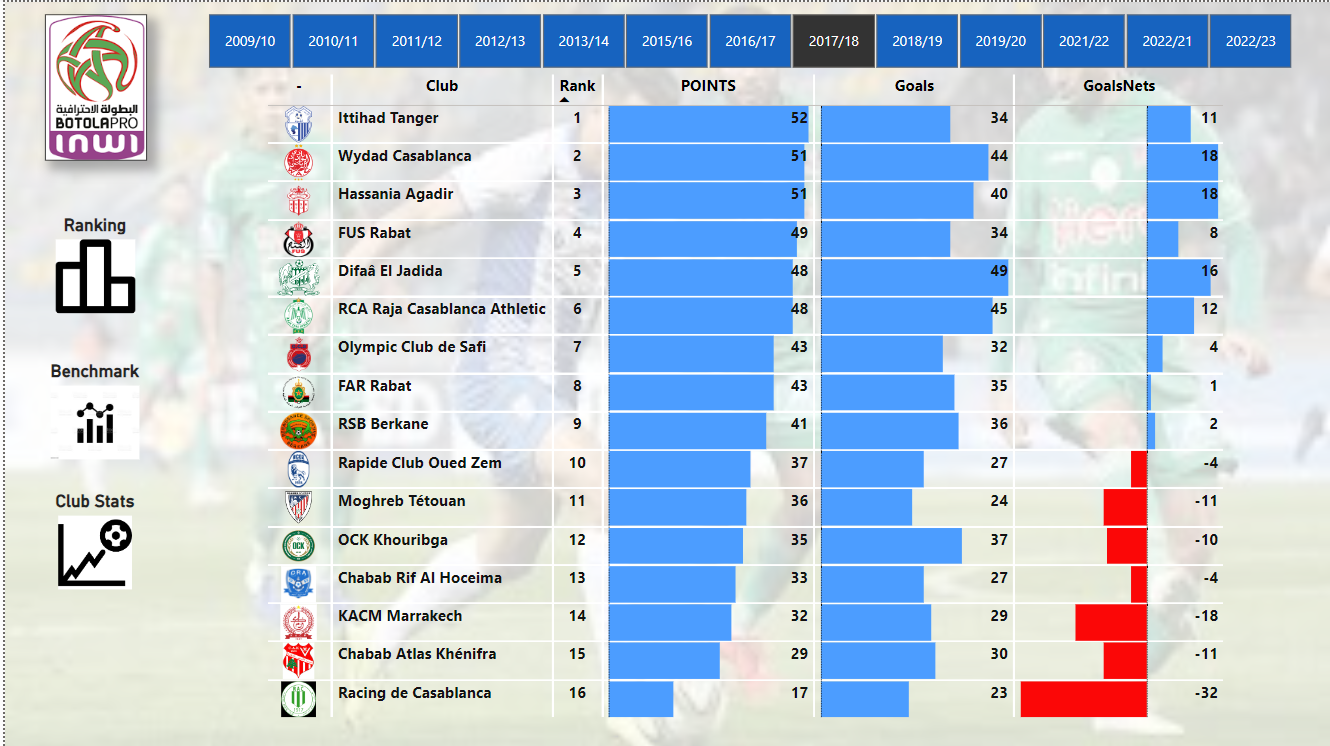

What the dashboard file says about the page in this screenshot:
{"tool":"powerbi","page":{"name":"RANKING","canvas":[1280,720],"ordinal":0},"visuals":[{"type":"image","box":[38,12,98,141],"z":0},{"type":"tableEx","fields":{"Values":["Sheet1 (2).logos","Sheet1 (2).Club","Sum(Sheet1 (2).Rank)","Liste des mesures.POINTS","Liste des mesures.Goals","Liste des mesures.GoalsNetsTotal"]},"box":[247.2,65.1,934.7,654.9],"z":1000},{"type":"slicer","fields":{"Values":["Sheet1 (2).Saison"]},"box":[176.1,9.6,1084.2,55.5],"z":2000},{"type":"bookmarkNavigator","box":[0,281,600.6,49.4],"z":3000},{"type":"image","title":"Ranking","box":[27,205,120.6,100.1],"z":4000},{"type":"image","title":"Club Stats","box":[27,472,120.6,100.1],"z":5000},{"type":"image","title":"Benchmark","box":[27,346,120,100],"z":6000}]}

Visuals, with their boxes in screenshot pixels (x1, y1, x2, y2), scaled from the page's 1280x720 canvas onto the 1330x746 screenshot:
image: {"left": 39, "top": 12, "right": 141, "bottom": 159}
tableEx - Sheet1 (2).logos x Sheet1 (2).Club: {"left": 257, "top": 67, "right": 1228, "bottom": 745}
slicer - Sheet1 (2).Saison: {"left": 183, "top": 10, "right": 1310, "bottom": 67}
bookmarkNavigator: {"left": 0, "top": 291, "right": 624, "bottom": 342}
"Ranking" image: {"left": 28, "top": 212, "right": 153, "bottom": 316}
"Club Stats" image: {"left": 28, "top": 489, "right": 153, "bottom": 593}
"Benchmark" image: {"left": 28, "top": 358, "right": 153, "bottom": 462}
